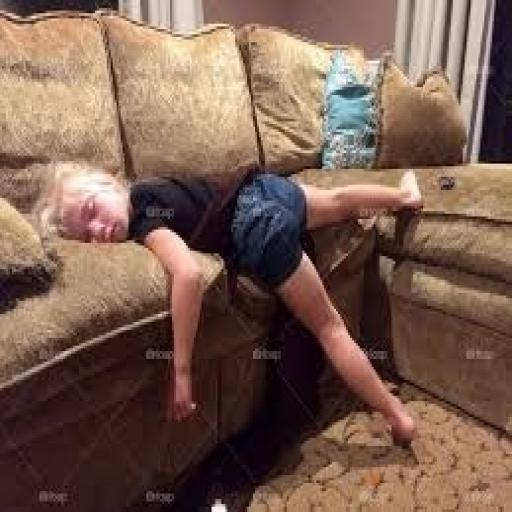sleeping: (34, 150, 425, 448)
